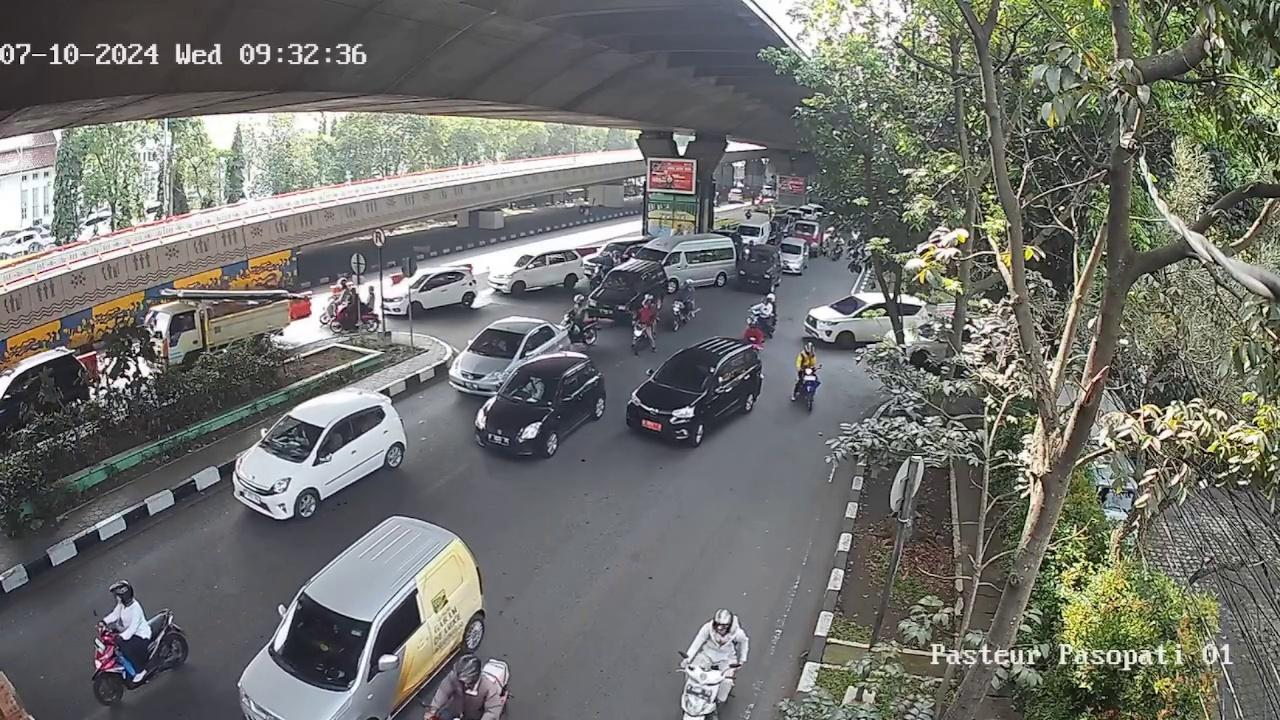pakai: (519, 378, 545, 397)
windshield: (275, 593, 371, 681), (653, 353, 715, 390), (262, 415, 323, 452), (499, 375, 561, 406), (473, 330, 521, 356)
